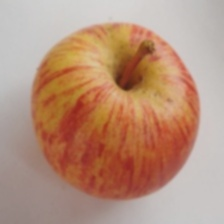apple: (14, 45, 175, 205)
